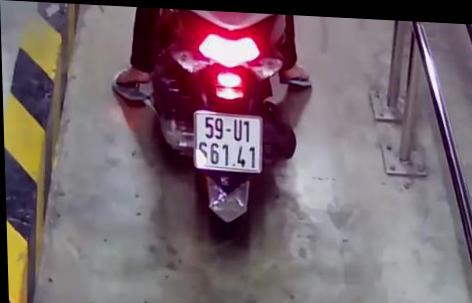License_Plate: (189, 105, 269, 180)
